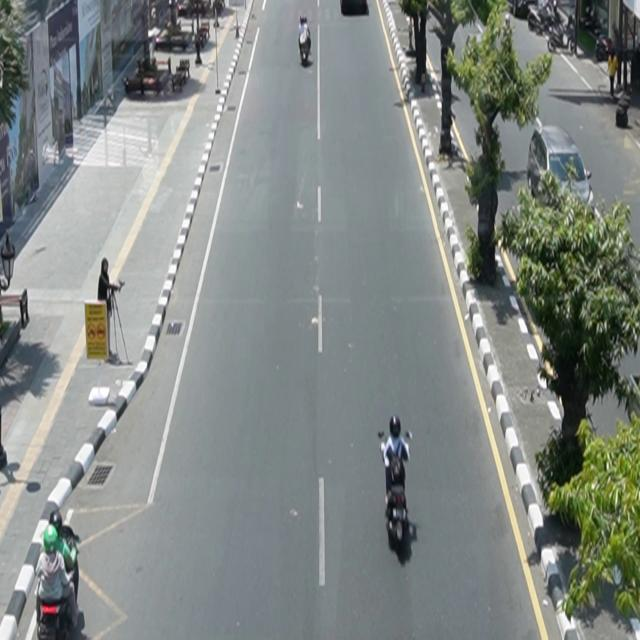car: (527, 123, 595, 213)
